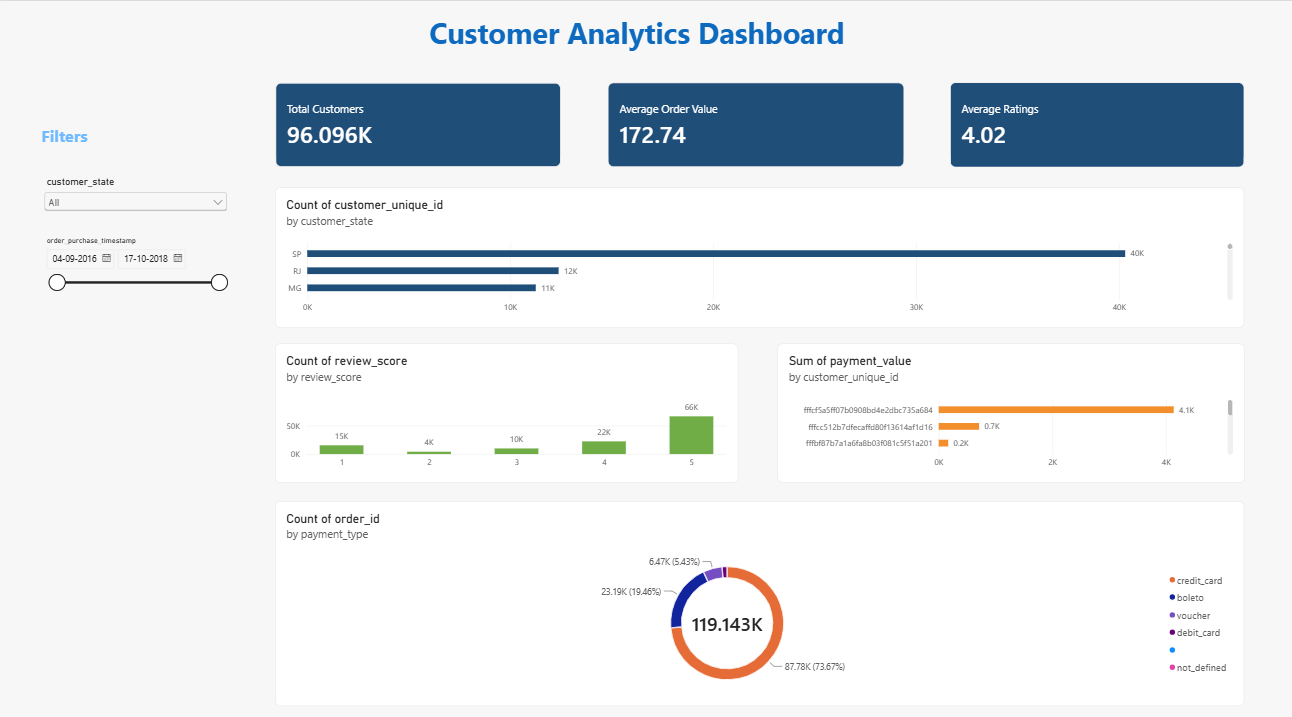

The dashboard page shown, as its layout file describes it:
{"tool":"powerbi","page":{"name":"Customer Analytics","canvas":[1920,1080],"ordinal":1},"visuals":[{"type":"cardVisual","fields":{"Data":["Count(master_dataset.customer_unique_id)"]},"box":[408,120,424,126],"z":0},{"type":"cardVisual","fields":{"Data":["Avg(master_dataset.review_score)"]},"box":[1408,120,436,126],"z":1},{"type":"cardVisual","fields":{"Data":["Avg(master_dataset.payment_value)"]},"box":[900,120,440,126],"z":2},{"type":"clusteredBarChart","fields":{"Category":["master_dataset.customer_state"],"Y":["Count(master_dataset.customer_unique_id)"]},"box":[408,276,1436,208],"z":3},{"type":"clusteredBarChart","fields":{"Category":["master_dataset.customer_unique_id"],"Y":["Sum(master_dataset.payment_value)"]},"box":[1152,508,692,206],"z":4},{"type":"donutChart","fields":{"Category":["master_dataset.payment_type"],"Y":["CountNonNull(master_dataset.order_id)"]},"box":[408,740,1436,304],"z":5},{"type":"columnChart","fields":{"Category":["master_dataset.review_score"],"Y":["CountNonNull(master_dataset.review_score)"]},"box":[408,508,686,206],"z":6},{"type":"slicer","fields":{"Values":["master_dataset.customer_state"]},"box":[62,260,280,104],"z":8},{"type":"slicer","fields":{"Values":["master_dataset.order_purchase_timestamp"]},"box":[62,348,280,92],"z":9},{"type":"textbox","box":[42,16,1802,80],"z":10},{"type":"textbox","box":[62,184,280,44],"z":11}]}

Visuals, with their boxes in screenshot pixels (x1, y1, x2, y2), scaled from the page's 1920x1080 canvas onto the 1292x717 screenshot:
cardVisual - Count(master_dataset.customer_unique_id): BBox(275, 80, 560, 163)
cardVisual - Avg(master_dataset.review_score): BBox(947, 80, 1241, 163)
cardVisual - Avg(master_dataset.payment_value): BBox(606, 80, 902, 163)
clusteredBarChart - master_dataset.customer_state x Count(master_dataset.customer_unique_id): BBox(275, 183, 1241, 321)
clusteredBarChart - master_dataset.customer_unique_id x Sum(master_dataset.payment_value): BBox(775, 337, 1241, 474)
donutChart - master_dataset.payment_type x CountNonNull(master_dataset.order_id): BBox(275, 491, 1241, 693)
columnChart - master_dataset.review_score x CountNonNull(master_dataset.review_score): BBox(275, 337, 736, 474)
slicer - master_dataset.customer_state: BBox(42, 173, 230, 242)
slicer - master_dataset.order_purchase_timestamp: BBox(42, 231, 230, 292)
textbox: BBox(28, 11, 1241, 64)
textbox: BBox(42, 122, 230, 151)
